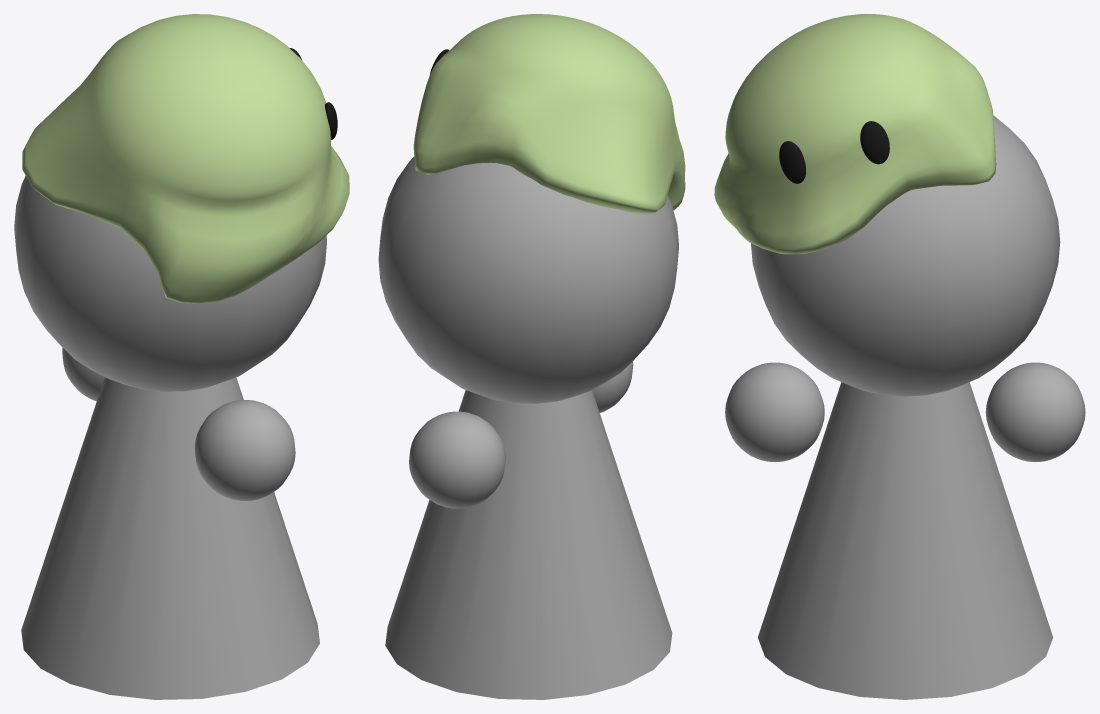
File: Slime_Pjäs.fbx
3 views of the same model, side by side, from view 1: azimuth 30°, elevation 25°; view 2: azimuth 150°, elevation 25°; view 3: azimuth 270°, elevation 25° (orthographic). The views are drawn at different scales.
Parts seen in each view (by area): view 1: pSphere9, pSphere15, pSphere24, pSphere25; view 2: pSphere9, pSphere15, pSphere25, pSphere24; view 3: pSphere9, pSphere15, pSphere24, pSphere25, pSphere17, pSphere16.
Boxes of the visible parts, x1=… form: pSphere9: x1=14, y1=176, x2=326, y2=699; pSphere15: x1=22, y1=14, x2=349, y2=303; pSphere24: x1=194, y1=400, x2=295, y2=500; pSphere25: x1=62, y1=347, x2=104, y2=401; pSphere9: x1=378, y1=156, x2=678, y2=699; pSphere15: x1=413, y1=14, x2=685, y2=213; pSphere25: x1=409, y1=411, x2=505, y2=508; pSphere24: x1=592, y1=361, x2=633, y2=412; pSphere9: x1=751, y1=115, x2=1060, y2=699; pSphere15: x1=714, y1=14, x2=996, y2=254; pSphere24: x1=725, y1=362, x2=824, y2=461; pSphere25: x1=985, y1=362, x2=1085, y2=462; pSphere17: x1=860, y1=121, x2=889, y2=164; pSphere16: x1=779, y1=141, x2=805, y2=183.
Size of the model in its own units: 2.47 by 5.37 by 2.95.
